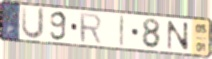8: (141, 18, 162, 50)
9: (50, 10, 67, 41)
I: (118, 14, 126, 48)
N: (166, 20, 191, 53)
R: (78, 11, 103, 45)
U: (20, 5, 47, 42)
